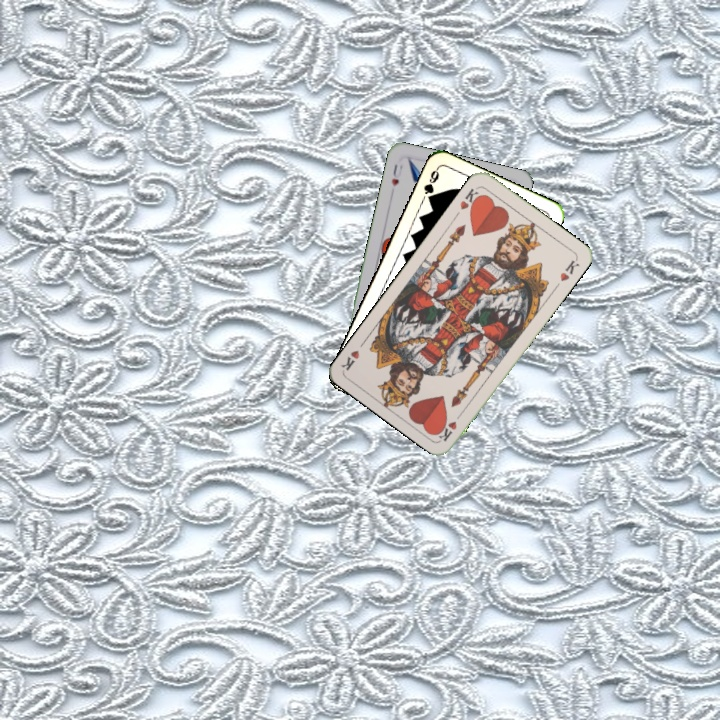G9: (419, 164, 442, 205)
HK: (435, 407, 466, 444), (456, 183, 484, 214)
HU: (387, 160, 405, 189)
